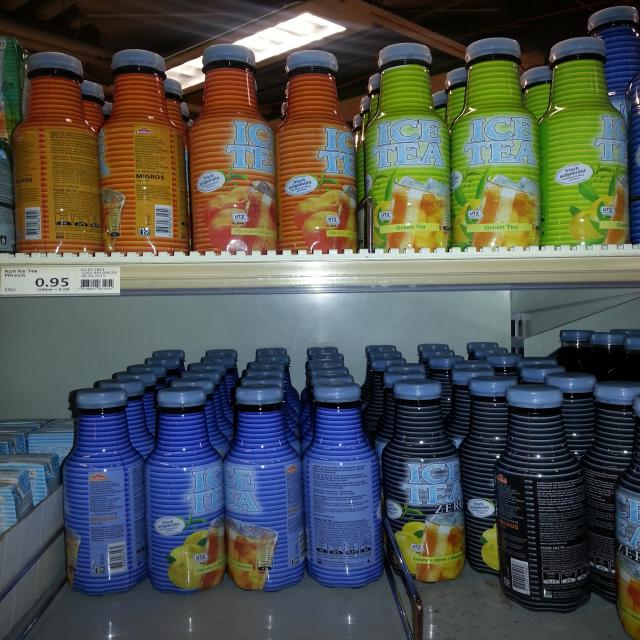IceTea: (497, 382, 600, 613), (272, 43, 367, 254), (541, 36, 633, 247), (453, 32, 542, 249), (12, 46, 105, 252), (368, 40, 453, 254), (306, 380, 388, 597), (104, 46, 189, 250), (222, 386, 306, 592), (194, 41, 272, 254), (67, 388, 147, 594), (390, 373, 466, 585), (155, 392, 228, 596), (463, 376, 526, 584), (588, 380, 640, 606)
